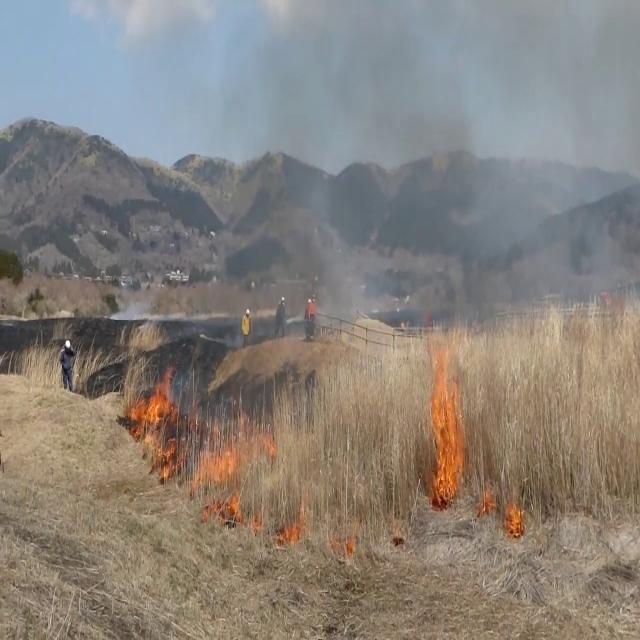Fire: (426, 338, 469, 505), (132, 356, 180, 440), (502, 492, 526, 537)
Smoke: (228, 0, 640, 350)
